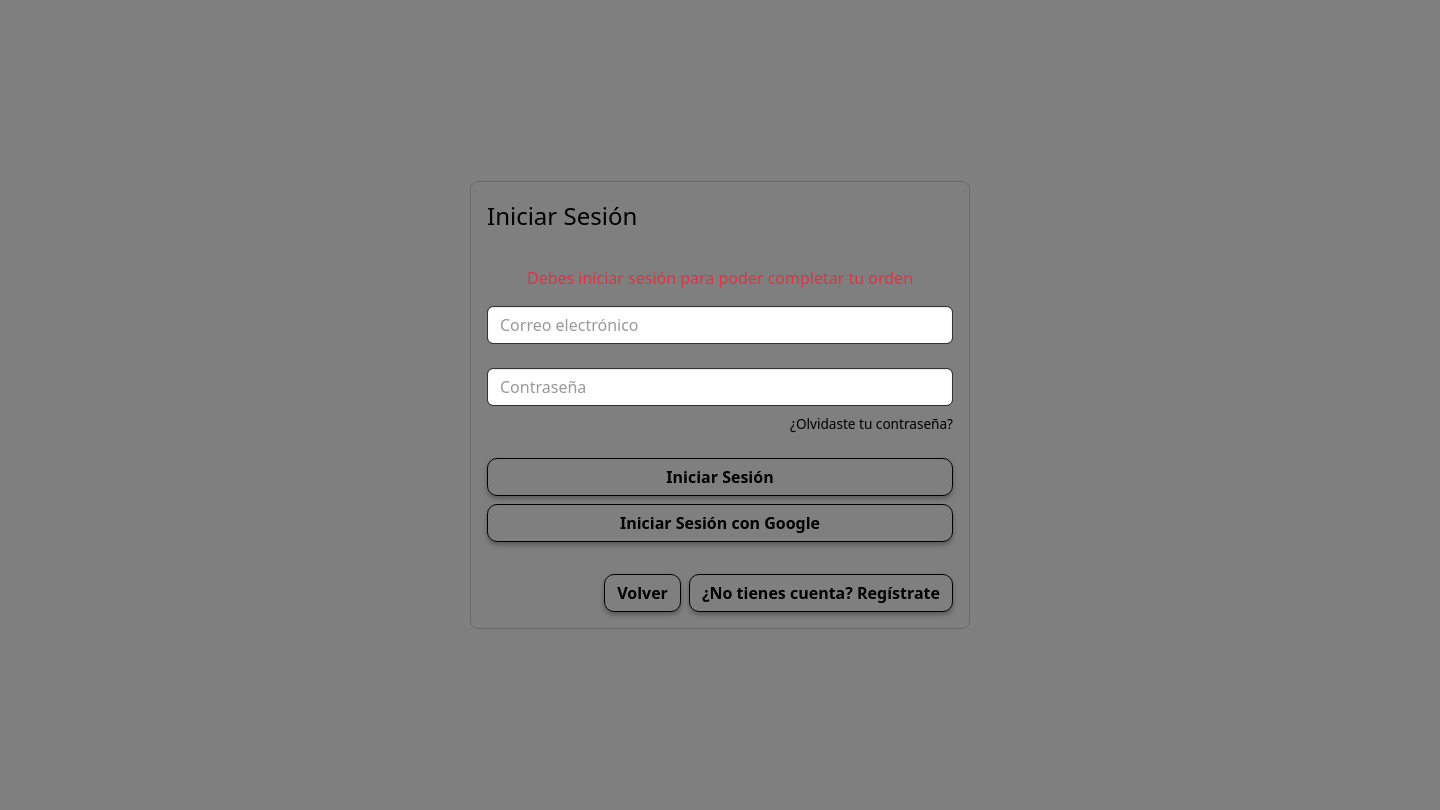
CheckoutModalAuth › switches to register mode
Click the button "¿No tienes cuenta? Regístrate" at (821, 593), box 689,574 -> 953,612
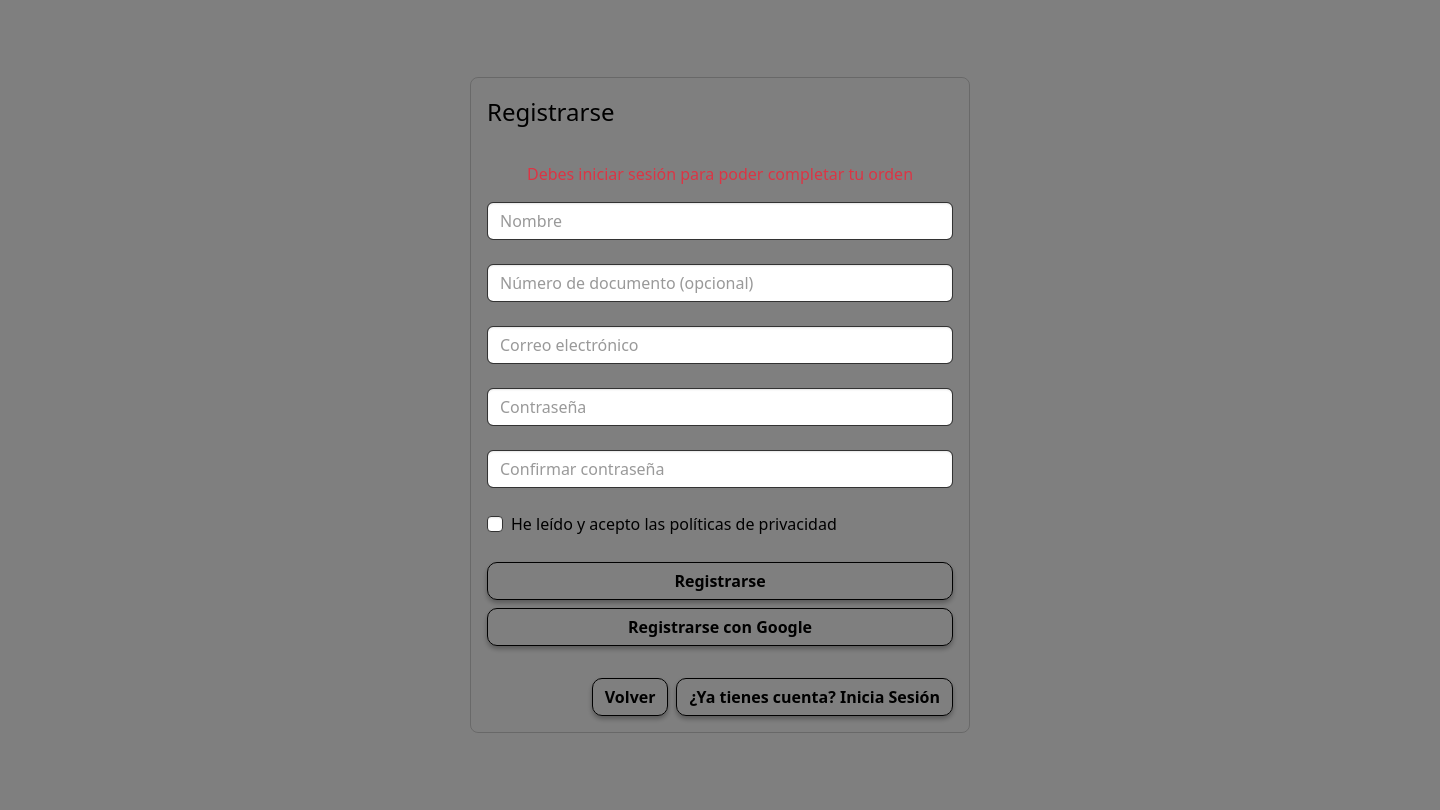
Check: the text "Registrarse" is shown 2 times, box 487,94 -> 614,130; 487,562 -> 953,600
Check: the field with placeholder "Nombre" is shown, box 487,202 -> 953,240
